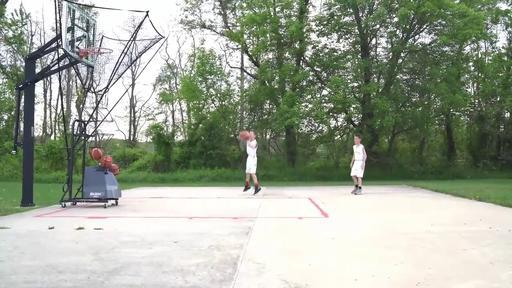ball: (100, 155, 114, 168), (90, 146, 102, 160), (238, 130, 250, 141), (110, 163, 119, 174)
human: (244, 131, 262, 195), (349, 134, 367, 196)
rim: (80, 48, 114, 76)
